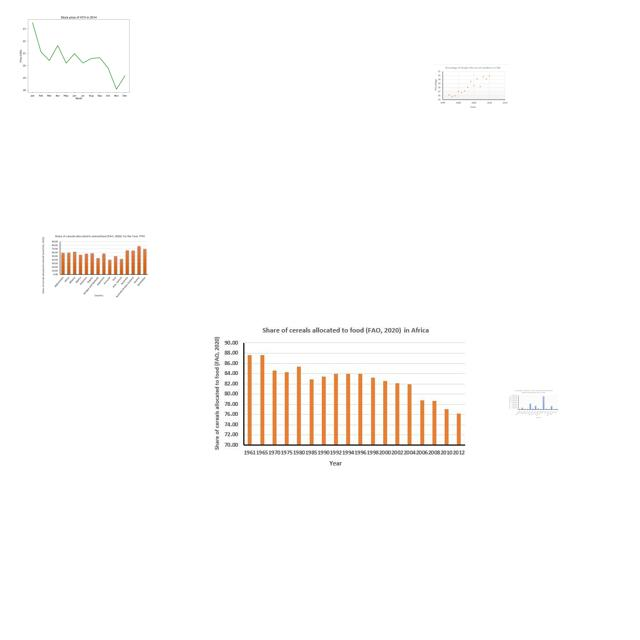Graph: (209, 322, 469, 471), (8, 8, 146, 103), (40, 233, 152, 300), (433, 64, 509, 110), (508, 389, 559, 419)
